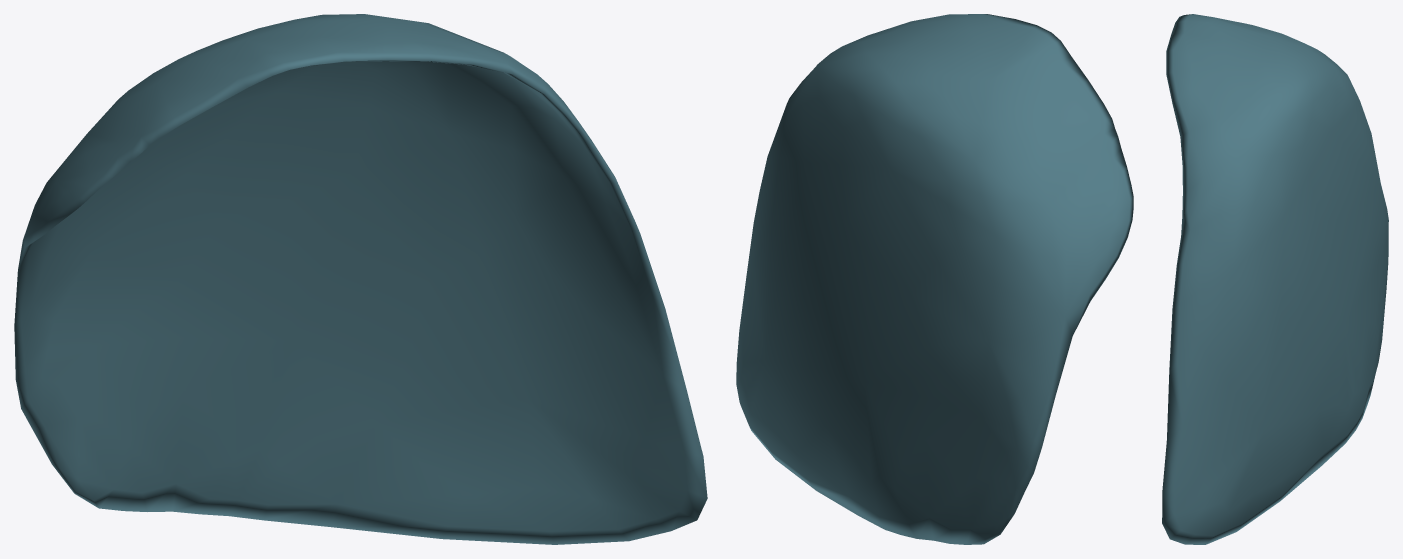
Rendered from Triceps_surae_calcaneal_tuberosity_right.glb.
3 renders of one model, left to right at view 1: azimuth 30°, elevation 25°; view 2: azimuth 150°, elevation 25°; view 3: azimuth 270°, elevation 25°, orthographic. The views are drawn at different scales.
Parts seen in each view (by area): view 1: Triceps_surae_on_calcaneal_tuberosity.r_Generated_Mesh_From_; view 2: Triceps_surae_on_calcaneal_tuberosity.r_Generated_Mesh_From_; view 3: Triceps_surae_on_calcaneal_tuberosity.r_Generated_Mesh_From_.
Boxes of the visible parts, box(x1,y1,x2,y2) form: Triceps_surae_on_calcaneal_tuberosity.r_Generated_Mesh_From_: box(14, 14, 707, 544); Triceps_surae_on_calcaneal_tuberosity.r_Generated_Mesh_From_: box(736, 14, 1133, 544); Triceps_surae_on_calcaneal_tuberosity.r_Generated_Mesh_From_: box(1162, 14, 1388, 544).
Size of the model in its own units: 0.0255 by 0.0249 by 0.0124.
